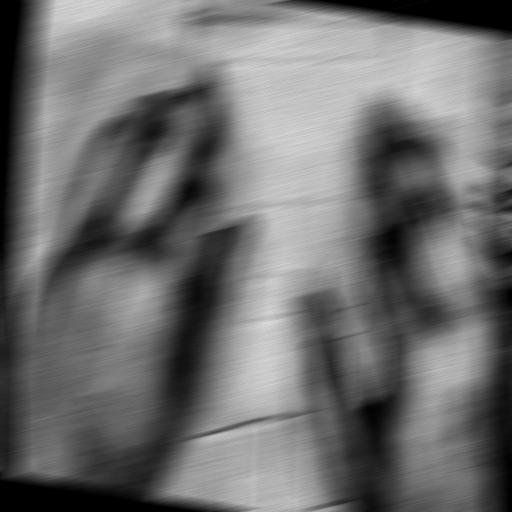door: (155, 6, 412, 512)
